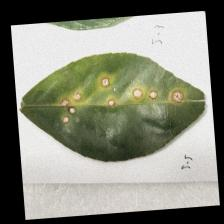canker: (50, 77, 186, 137)
